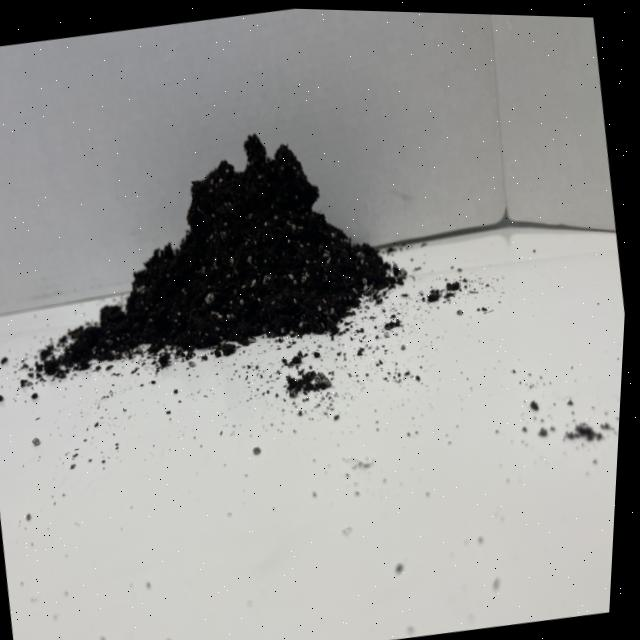soil: (1, 102, 425, 396)
